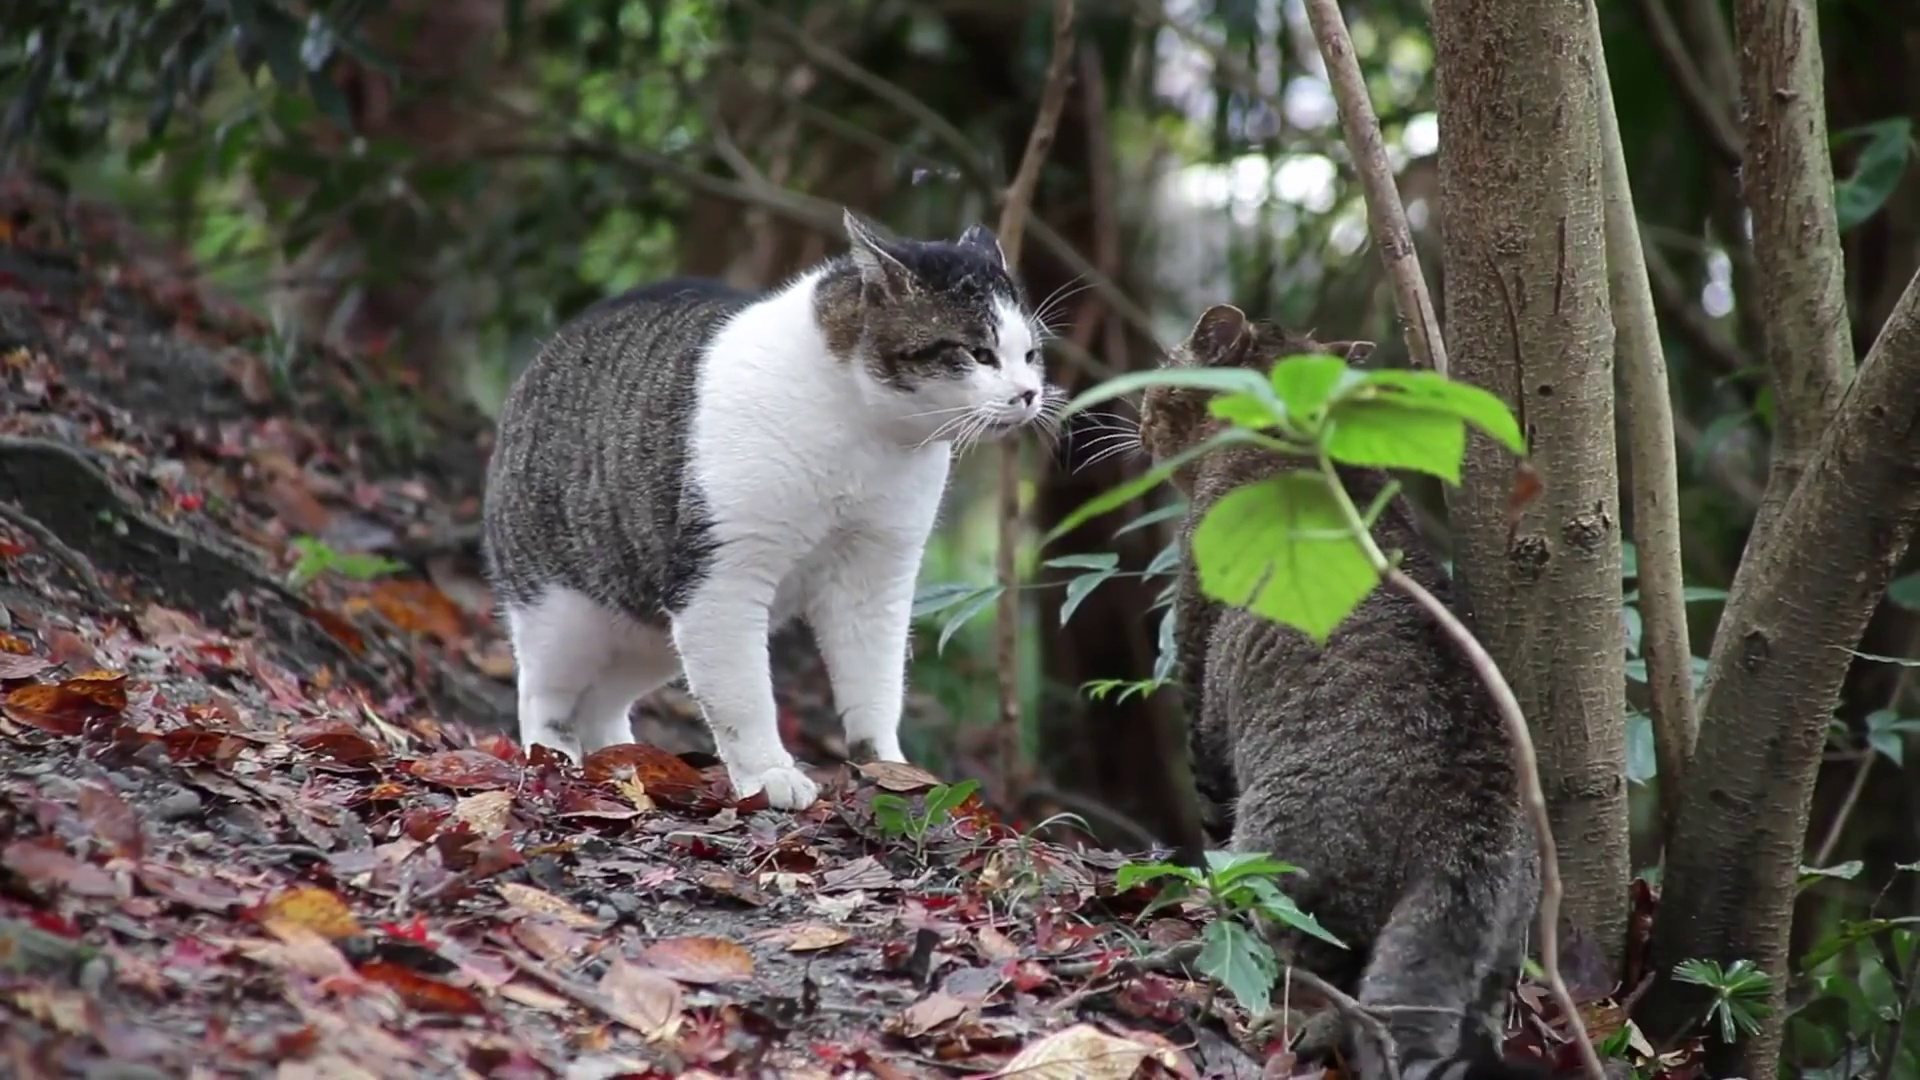black-white: (475, 206, 1043, 818)
pure black: (1141, 305, 1528, 1080)
